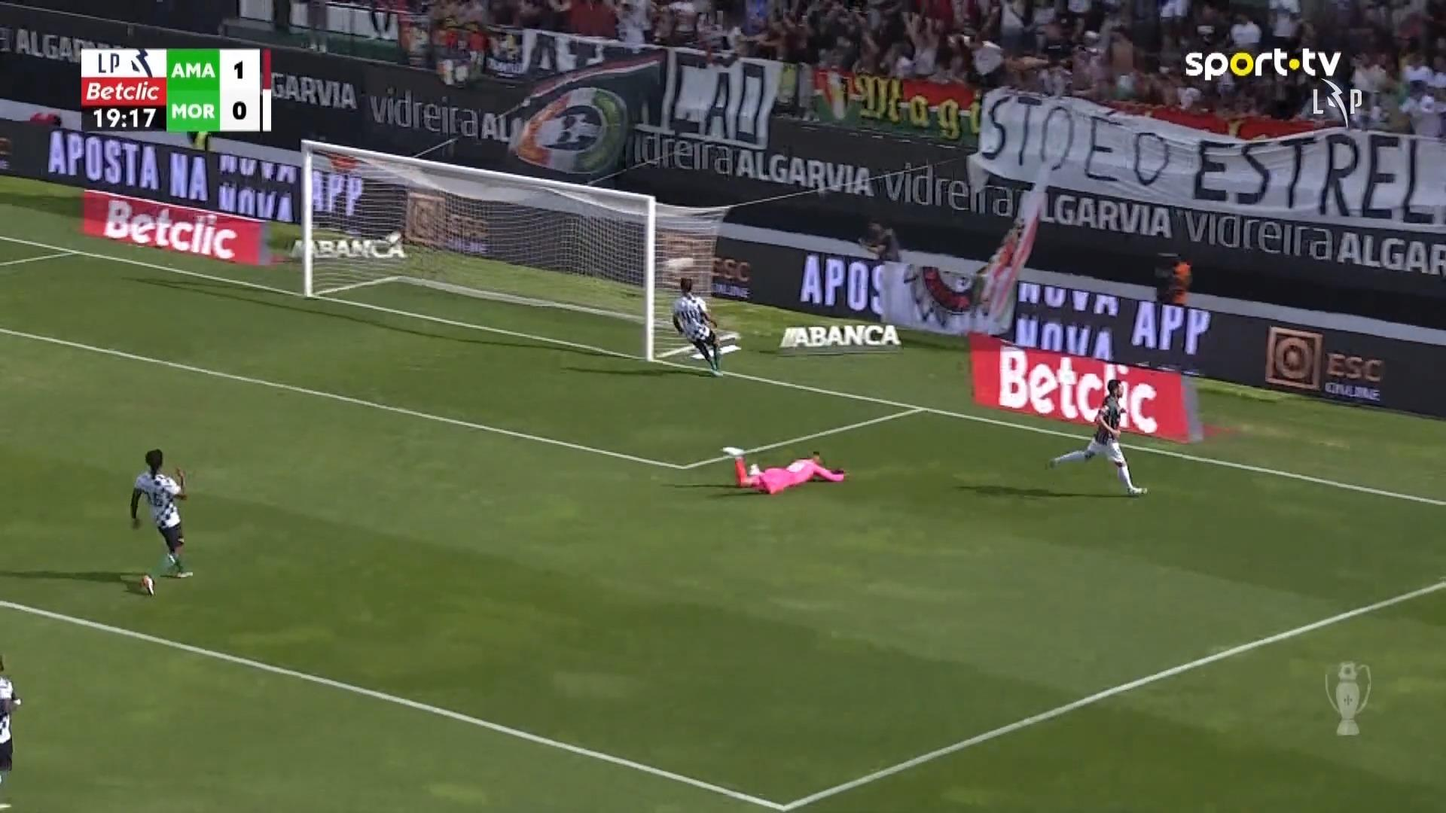goalkeeper: (721, 445, 846, 495)
player: (1046, 376, 1148, 496), (128, 447, 194, 595), (670, 276, 724, 377), (0, 653, 21, 783)
